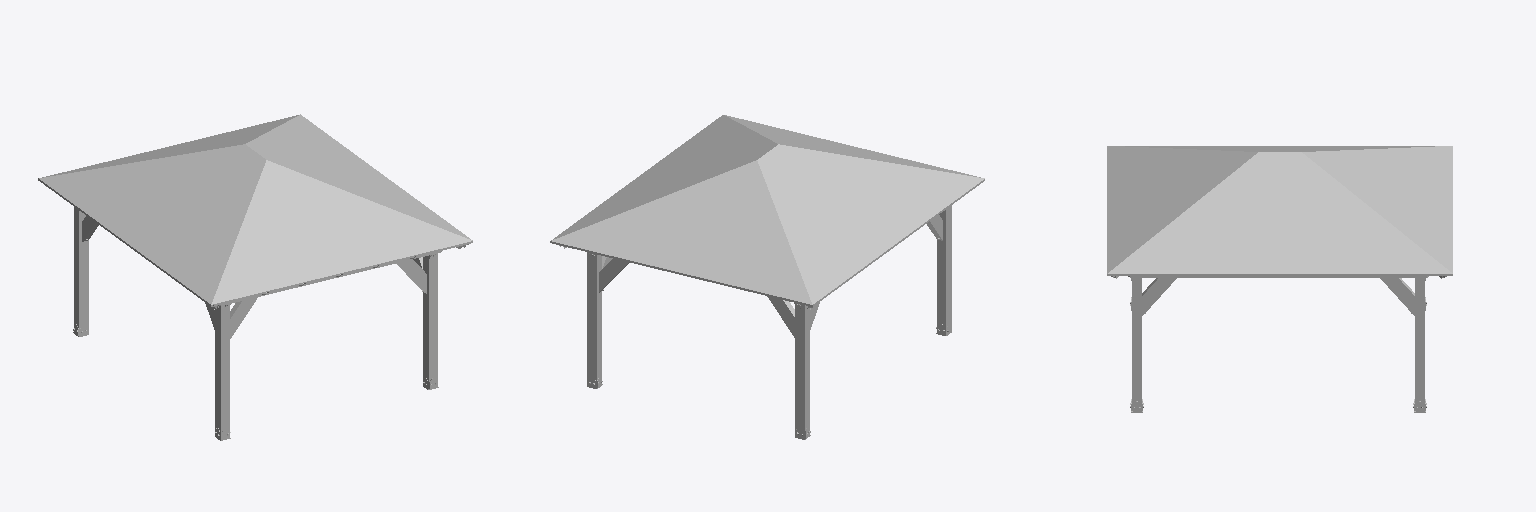
The model's file is saratoga-14x16-3step.obj.
3 views of the same model, side by side, from view 1: azimuth 30°, elevation 25°; view 2: azimuth 150°, elevation 25°; view 3: azimuth 270°, elevation 25° (orthographic).
Parts seen in each view (by area): view 1: Mesh228 shingles roof Group1 Model, Mesh179 Group73 Component_92_4 Group2 Group1 Model, Mesh81 Group45 Component_92_2 Group2 Group1 Model, Mesh130 Group59 Component_92_3 Group2 Group1 Model, Mesh229 roof Group1 Model; view 2: Mesh228 shingles roof Group1 Model, Mesh130 Group59 Component_92_3 Group2 Group1 Model, Mesh1 Group4 Component_92_1 Group3 Group2 Group1 Model, Mesh179 Group73 Component_92_4 Group2 Group1 Model, Mesh229 roof Group1 Model; view 3: Mesh228 shingles roof Group1 Model, Mesh1 Group4 Component_92_1 Group3 Group2 Group1 Model, Mesh81 Group45 Component_92_2 Group2 Group1 Model, Mesh229 roof Group1 Model, Mesh125 Component_91_4 Component_92_2 Group2 Group1 Model, Mesh45 Component_91_2 Component_92_1 Group3 Group2 Group1 Model, Mesh80 Component_134_2 Group2 Group1 Model.
Part boxes in pixels (bbox=[...]): Mesh228 shingles roof Group1 Model: bbox=[39, 114, 472, 304]; Mesh179 Group73 Component_92_4 Group2 Group1 Model: bbox=[215, 305, 229, 439]; Mesh81 Group45 Component_92_2 Group2 Group1 Model: bbox=[423, 253, 437, 388]; Mesh130 Group59 Component_92_3 Group2 Group1 Model: bbox=[74, 207, 88, 335]; Mesh229 roof Group1 Model: bbox=[38, 178, 472, 306]; Mesh228 shingles roof Group1 Model: bbox=[551, 115, 984, 304]; Mesh130 Group59 Component_92_3 Group2 Group1 Model: bbox=[795, 304, 809, 438]; Mesh1 Group4 Component_92_1 Group3 Group2 Group1 Model: bbox=[587, 252, 601, 387]; Mesh179 Group73 Component_92_4 Group2 Group1 Model: bbox=[937, 205, 951, 334]; Mesh229 roof Group1 Model: bbox=[550, 179, 984, 306]; Mesh228 shingles roof Group1 Model: bbox=[1107, 146, 1452, 273]; Mesh1 Group4 Component_92_1 Group3 Group2 Group1 Model: bbox=[1415, 278, 1424, 410]; Mesh81 Group45 Component_92_2 Group2 Group1 Model: bbox=[1132, 278, 1141, 410]; Mesh229 roof Group1 Model: bbox=[1107, 274, 1452, 275]; Mesh125 Component_91_4 Component_92_2 Group2 Group1 Model: bbox=[1142, 278, 1176, 315]; Mesh45 Component_91_2 Component_92_1 Group3 Group2 Group1 Model: bbox=[1380, 278, 1414, 315]; Mesh80 Component_134_2 Group2 Group1 Model: bbox=[1135, 276, 1415, 277].
Bounding box in the file's own units: 169 × 128 × 193.